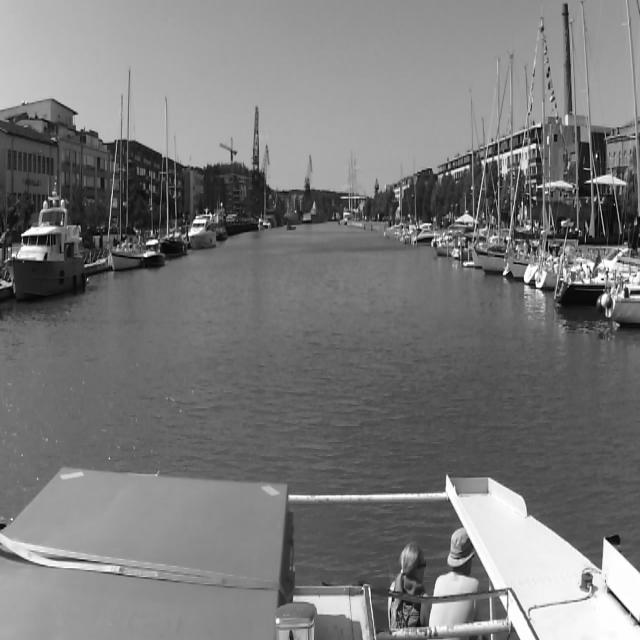ship: (551, 4, 640, 310), (498, 23, 578, 279), (603, 0, 639, 332), (5, 177, 90, 306), (107, 70, 141, 273), (166, 93, 188, 256), (338, 154, 368, 218), (188, 207, 218, 251), (406, 221, 438, 248), (142, 238, 166, 273)
